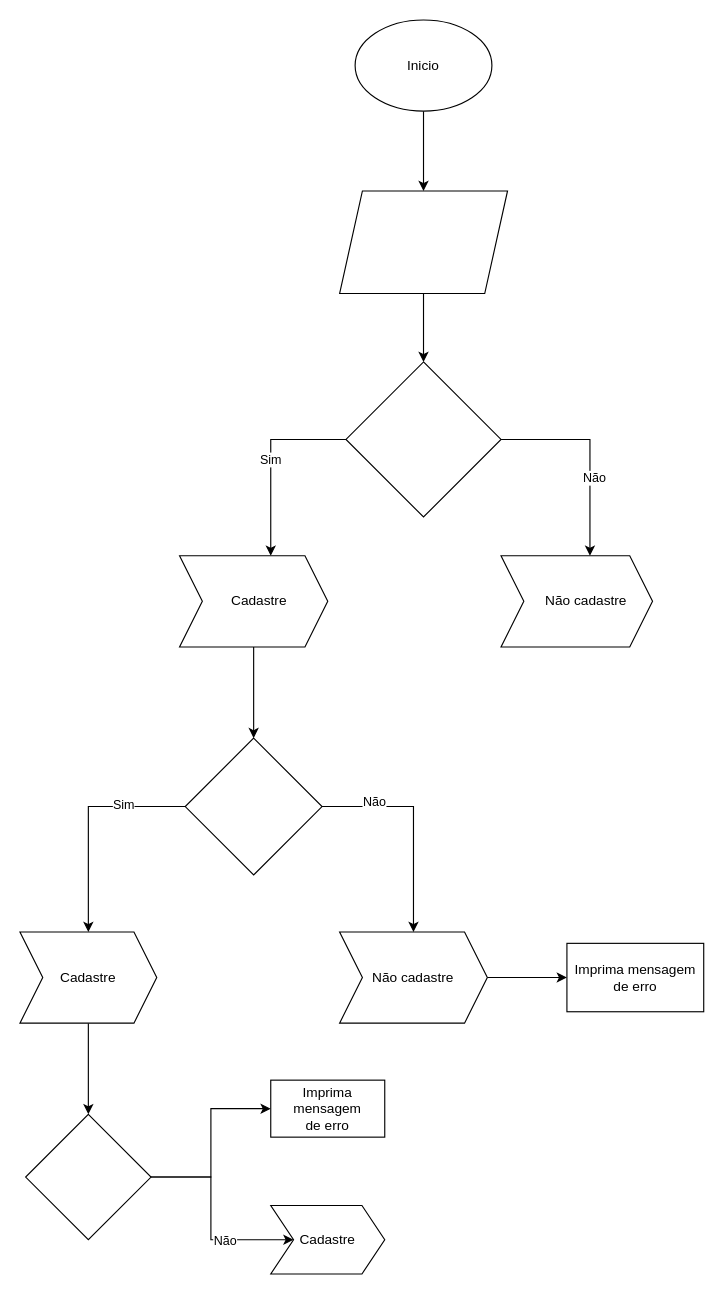
Image size: 724x1294. Some labels were removed from this diagram. Each missing label, with the centre of its shape:
Existe mais de 10 peças?: [88,1176]
Inserir primeira peça: [423,242]
Nome com +3 caracteres: [253,806]
Peso maior que 100g?: [423,439]
